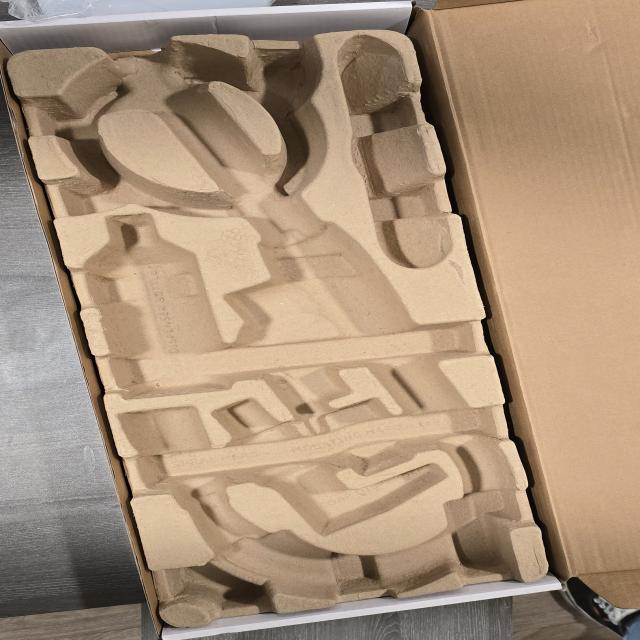1m: (114, 44, 515, 597)
2m: (214, 397, 445, 535)
3m: (82, 215, 232, 401)
4m: (338, 37, 449, 269)
5m: (256, 55, 310, 100)
6m: (59, 62, 124, 120)
7m: (81, 168, 144, 212)
